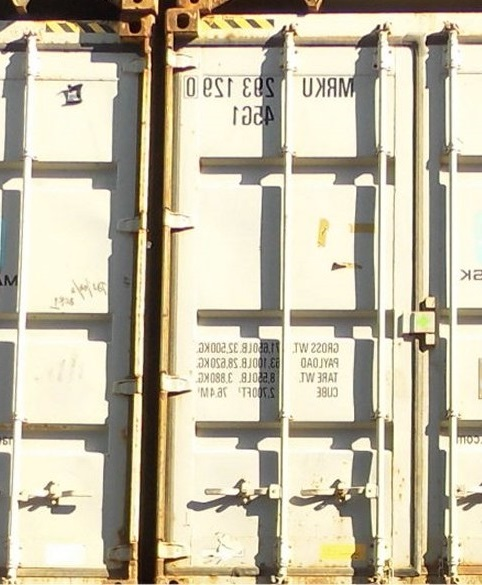container_door: (165, 10, 482, 583), (1, 12, 146, 585)
